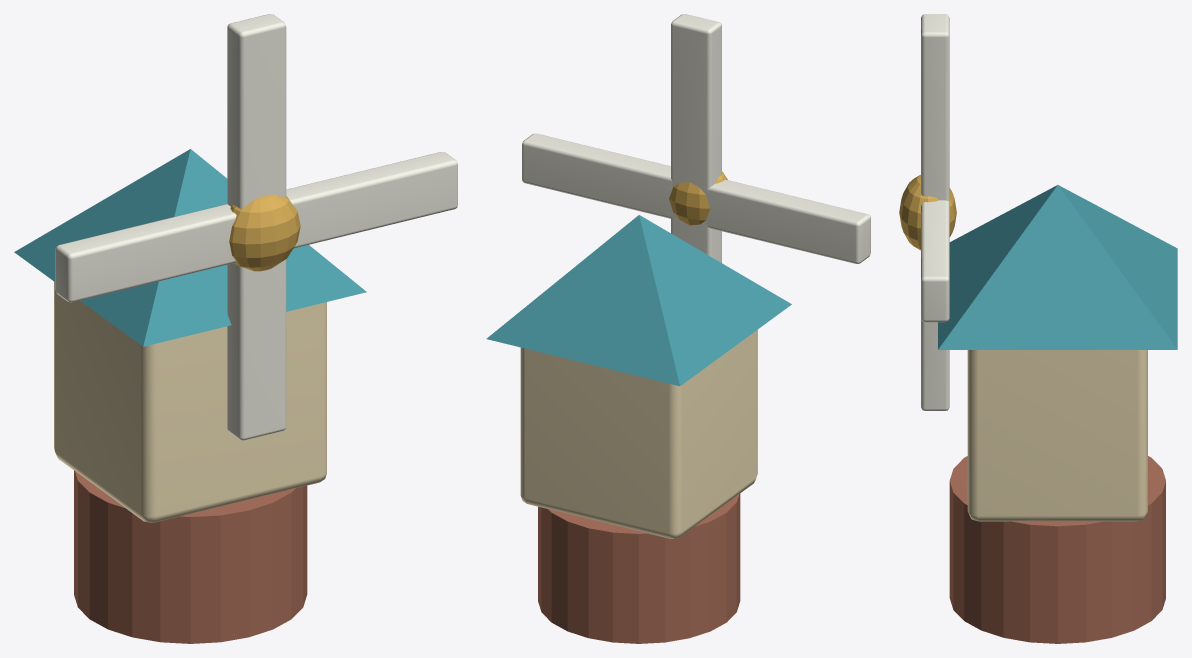
File: netherlands-canal-windmill.glb
The picture shows the model from 3 angles, left to right: view 1: azimuth 30°, elevation 25°; view 2: azimuth 150°, elevation 25°; view 3: azimuth 270°, elevation 25°; orthographic projection. The views are drawn at different scales.
Visible parts, largest first — view 1: みずべの こや, れんがの だい, あおい やね, かざぐるまの はね.001, かざぐるまの はね.002, かざぐるまの はね.003, かざぐるまの はね, はねの しん; view 2: みずべの こや, あおい やね, れんがの だい, かざぐるまの はね.001, かざぐるまの はね.002, かざぐるまの はね, はねの しん, かざぐるまの はね.003; view 3: あおい やね, みずべの こや, れんがの だい, かざぐるまの はね.001, かざぐるまの はね, かざぐるまの はね.003, はねの しん.
Boxes of the visible parts, x1,y1,x2,y2 form: みずべの こや: [54, 281, 326, 522]; れんがの だい: [74, 470, 307, 643]; あおい やね: [14, 149, 366, 346]; かざぐるまの はね.001: [227, 14, 286, 208]; かざぐるまの はね.002: [55, 204, 236, 302]; かざぐるまの はね.003: [227, 259, 286, 440]; かざぐるまの はね: [286, 152, 457, 248]; はねの しん: [229, 194, 300, 271]; みずべの こや: [520, 330, 757, 538]; あおい やね: [486, 215, 791, 386]; れんがの だい: [538, 494, 740, 643]; かざぐるまの はね.001: [671, 14, 721, 195]; かざぐるまの はね.002: [706, 179, 870, 263]; かざぐるまの はね: [522, 133, 678, 218]; はねの しん: [669, 171, 727, 225]; かざぐるまの はね.003: [671, 211, 721, 262]; あおい やね: [938, 185, 1177, 349]; みずべの こや: [967, 350, 1147, 521]; れんがの だい: [949, 456, 1165, 643]; かざぐるまの はね.001: [921, 14, 949, 201]; かざぐるまの はね: [921, 200, 949, 322]; かざぐるまの はね.003: [921, 319, 949, 410]; はねの しん: [899, 174, 956, 250].
Bounding box in the file's own units: 1.16 × 1.76 × 0.7723.
